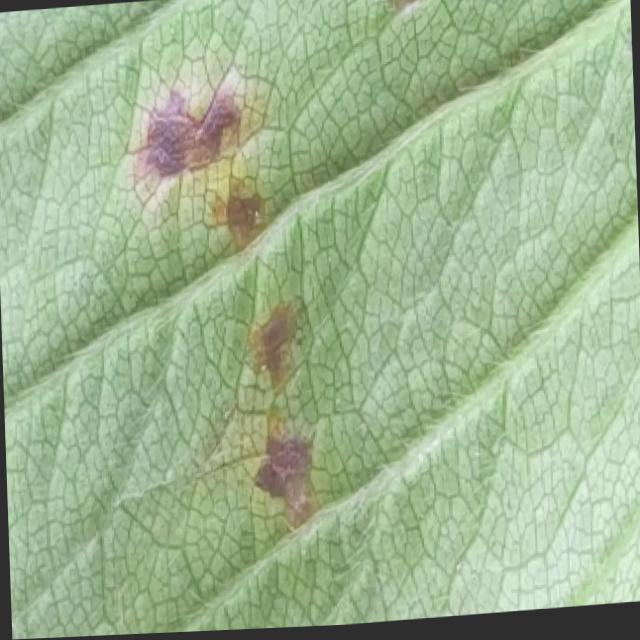Angular Leafspot: (109, 0, 489, 539)
